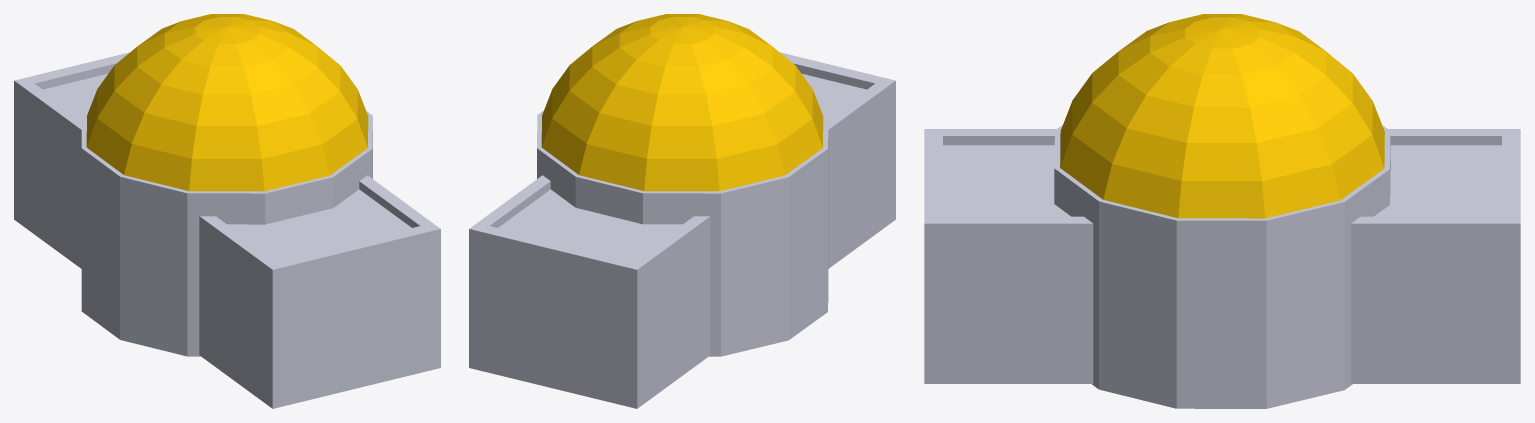
The model's file is bank.glb.
The picture shows the model from 3 angles, left to right: view 1: azimuth 30°, elevation 25°; view 2: azimuth 150°, elevation 25°; view 3: azimuth 270°, elevation 25°; orthographic projection. The views are drawn at different scales.
Parts seen in each view (by area): view 1: Cube-col, Roof; view 2: Cube-col, Roof; view 3: Cube-col, Roof.
Boxes of the visible parts, bbox=[...] form: Cube-col: bbox=[14, 52, 440, 408]; Roof: bbox=[86, 14, 368, 191]; Cube-col: bbox=[469, 52, 895, 408]; Roof: bbox=[541, 14, 823, 191]; Cube-col: bbox=[924, 125, 1520, 408]; Roof: bbox=[1060, 14, 1384, 218].
Bounding box in the file's own units: 22.17 × 22.49 × 39.35.
